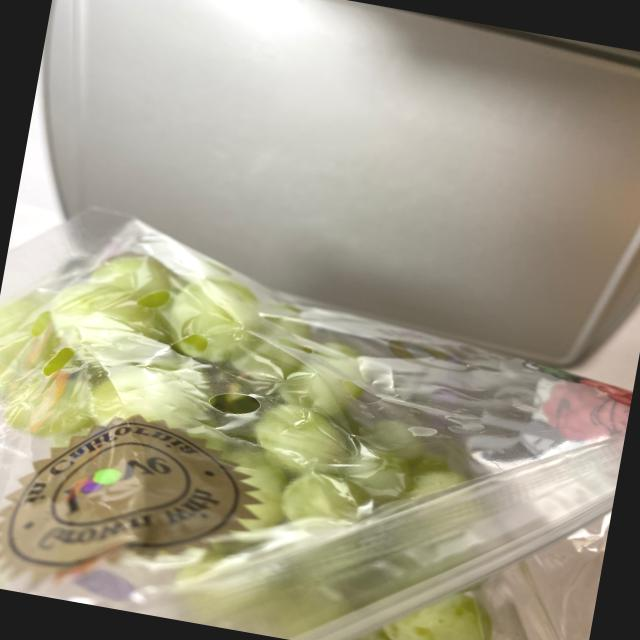grapes: (0, 236, 547, 640)
